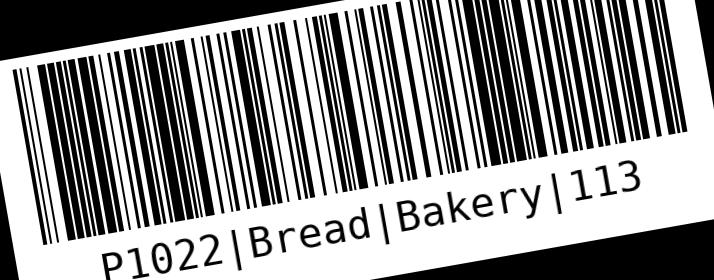milk: (5, 2, 712, 279)
